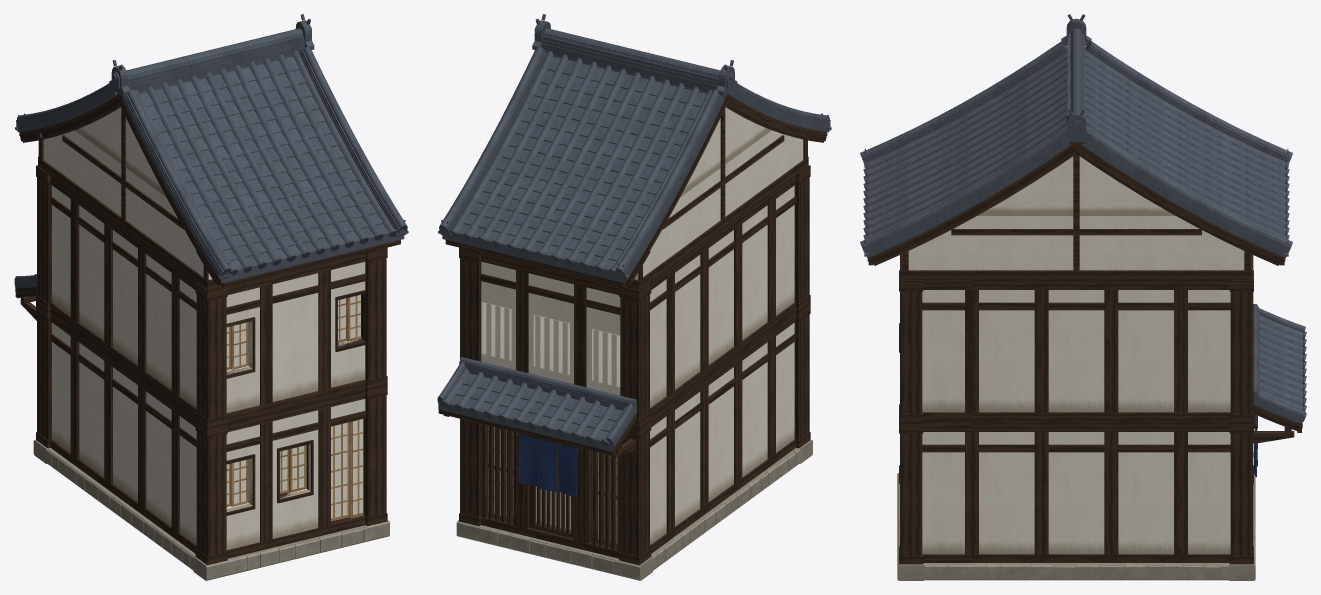
File: HO_Bldg_Machiya_F.fbx
3 renders of one model, left to right at view 1: azimuth 30°, elevation 25°; view 2: azimuth 150°, elevation 25°; view 3: azimuth 270°, elevation 25°, orthographic. The views are drawn at different scales.
Parts seen in each view (by area): view 1: HO_Bldg_Machiya_F_Structure__Timber_Dark, HO_Bldg_Machiya_F_RoofTiles, HO_Bldg_Machiya_F_Structure__Plaster_White, HO_Bldg_Machiya_F_RoofFrame__Plaster_White, HO_Bldg_Machiya_F_RoofFrame__Timber_Dark, HO_Bldg_Machiya_F_Structure__Stone_Granite, HO_Bldg_Machiya_F_Structure__Shoji_Paper, HO_Bldg_Machiya_F_Structure__Timber_Light, HO_Bldg_Machiya_F_Door3__Shoji_Paper, HO_Bldg_Machiya_F_Door2__Shoji_Paper, HO_Bldg_Machiya_F_Door3__Timber_Light, HO_Bldg_Machiya_F_Door2__Timber_Light; view 2: HO_Bldg_Machiya_F_RoofTiles, HO_Bldg_Machiya_F_Structure__Timber_Dark, HO_Bldg_Machiya_F_Structure__Plaster_White, HO_Bldg_Machiya_F_Front__RoofTile_Clay, HO_Bldg_Machiya_F_RoofFrame__Plaster_White, HO_Bldg_Machiya_F_RoofFrame__Timber_Dark, HO_Bldg_Machiya_F_Structure__Stone_Granite, HO_Bldg_Machiya_F_Front__Cloth_Indigo, HO_Bldg_Machiya_F_Door1__Timber_Dark, HO_Bldg_Machiya_F_Front__Timber_Dark, HO_Bldg_Machiya_F_Structure__Shoji_Paper; view 3: HO_Bldg_Machiya_F_Structure__Plaster_White, HO_Bldg_Machiya_F_RoofTiles, HO_Bldg_Machiya_F_Structure__Timber_Dark, HO_Bldg_Machiya_F_RoofFrame__Plaster_White, HO_Bldg_Machiya_F_RoofFrame__Timber_Dark, HO_Bldg_Machiya_F_Structure__Stone_Granite, HO_Bldg_Machiya_F_Front__RoofTile_Clay, HO_Bldg_Machiya_F_Front__Timber_Dark.
Part boxes in pixels (<box>): HO_Bldg_Machiya_F_Structure__Timber_Dark: <box>36,165,387,565</box>; HO_Bldg_Machiya_F_RoofTiles: <box>15,14,408,283</box>; HO_Bldg_Machiya_F_Structure__Plaster_White: <box>52,185,365,550</box>; HO_Bldg_Machiya_F_RoofFrame__Plaster_White: <box>43,107,212,279</box>; HO_Bldg_Machiya_F_RoofFrame__Timber_Dark: <box>19,93,400,290</box>; HO_Bldg_Machiya_F_Structure__Stone_Granite: <box>33,440,389,580</box>; HO_Bldg_Machiya_F_Structure__Shoji_Paper: <box>226,294,360,506</box>; HO_Bldg_Machiya_F_Structure__Timber_Light: <box>226,295,361,506</box>; HO_Bldg_Machiya_F_Door3__Shoji_Paper: <box>331,422,347,518</box>; HO_Bldg_Machiya_F_Door2__Shoji_Paper: <box>349,419,363,517</box>; HO_Bldg_Machiya_F_Door3__Timber_Light: <box>331,422,349,521</box>; HO_Bldg_Machiya_F_Door2__Timber_Light: <box>349,420,363,518</box>; HO_Bldg_Machiya_F_RoofTiles: <box>438,14,831,283</box>; HO_Bldg_Machiya_F_Structure__Timber_Dark: <box>459,165,810,565</box>; HO_Bldg_Machiya_F_Structure__Plaster_White: <box>481,185,794,544</box>; HO_Bldg_Machiya_F_Front__RoofTile_Clay: <box>437,357,637,451</box>; HO_Bldg_Machiya_F_RoofFrame__Plaster_White: <box>634,107,803,279</box>; HO_Bldg_Machiya_F_RoofFrame__Timber_Dark: <box>445,93,827,290</box>; HO_Bldg_Machiya_F_Structure__Stone_Granite: <box>456,440,812,580</box>; HO_Bldg_Machiya_F_Front__Cloth_Indigo: <box>518,434,577,497</box>; HO_Bldg_Machiya_F_Door1__Timber_Dark: <box>529,443,573,538</box>; HO_Bldg_Machiya_F_Front__Timber_Dark: <box>438,402,636,457</box>; HO_Bldg_Machiya_F_Structure__Shoji_Paper: <box>488,426,617,542</box>; HO_Bldg_Machiya_F_Structure__Plaster_White: <box>922,290,1230,554</box>; HO_Bldg_Machiya_F_RoofTiles: <box>860,14,1292,257</box>; HO_Bldg_Machiya_F_Structure__Timber_Dark: <box>899,255,1253,564</box>; HO_Bldg_Machiya_F_RoofFrame__Plaster_White: <box>908,156,1244,270</box>; HO_Bldg_Machiya_F_RoofFrame__Timber_Dark: <box>867,142,1285,279</box>; HO_Bldg_Machiya_F_Structure__Stone_Granite: <box>897,473,1255,580</box>; HO_Bldg_Machiya_F_Front__RoofTile_Clay: <box>1253,304,1306,423</box>; HO_Bldg_Machiya_F_Front__Timber_Dark: <box>1253,400,1302,443</box>.
Bounding box in the file's own units: 13.54 × 29.96 × 25.67.
